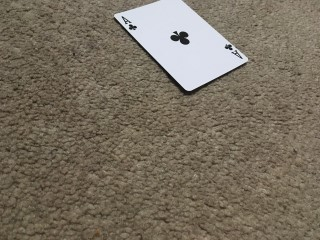AceOfClubs: (114, 1, 248, 92)
